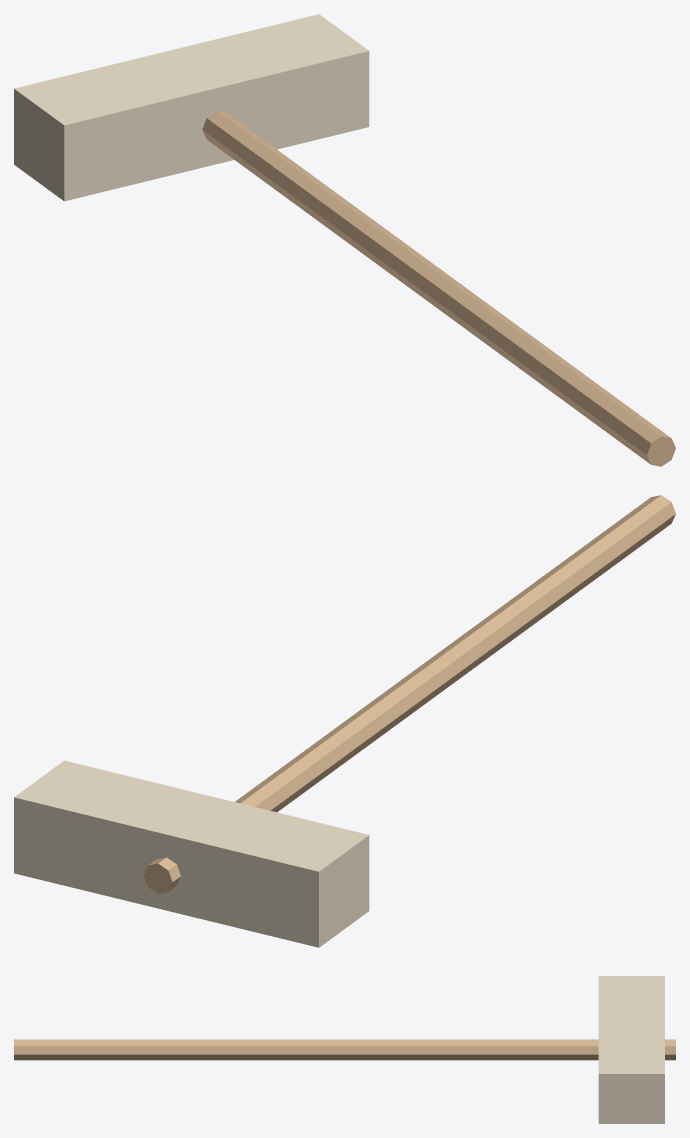
Rendered from broom.glb.
3 renders of one model, top to bottom at view 1: azimuth 30°, elevation 25°; view 2: azimuth 150°, elevation 25°; view 3: azimuth 270°, elevation 25°, orthographic. The views are drawn at different scales.
Visible parts, largest first — view 1: brush_1, handle_0; view 2: brush_1, handle_0; view 3: handle_0, brush_1.
Part boxes in pixels (bbox=[...]): brush_1: bbox=[14, 14, 369, 201]; handle_0: bbox=[202, 111, 675, 466]; brush_1: bbox=[14, 760, 369, 947]; handle_0: bbox=[143, 495, 675, 893]; handle_0: bbox=[14, 1039, 675, 1060]; brush_1: bbox=[598, 976, 664, 1123].
Size of the model in its own units: 0.42 by 0.1 by 1.2.
